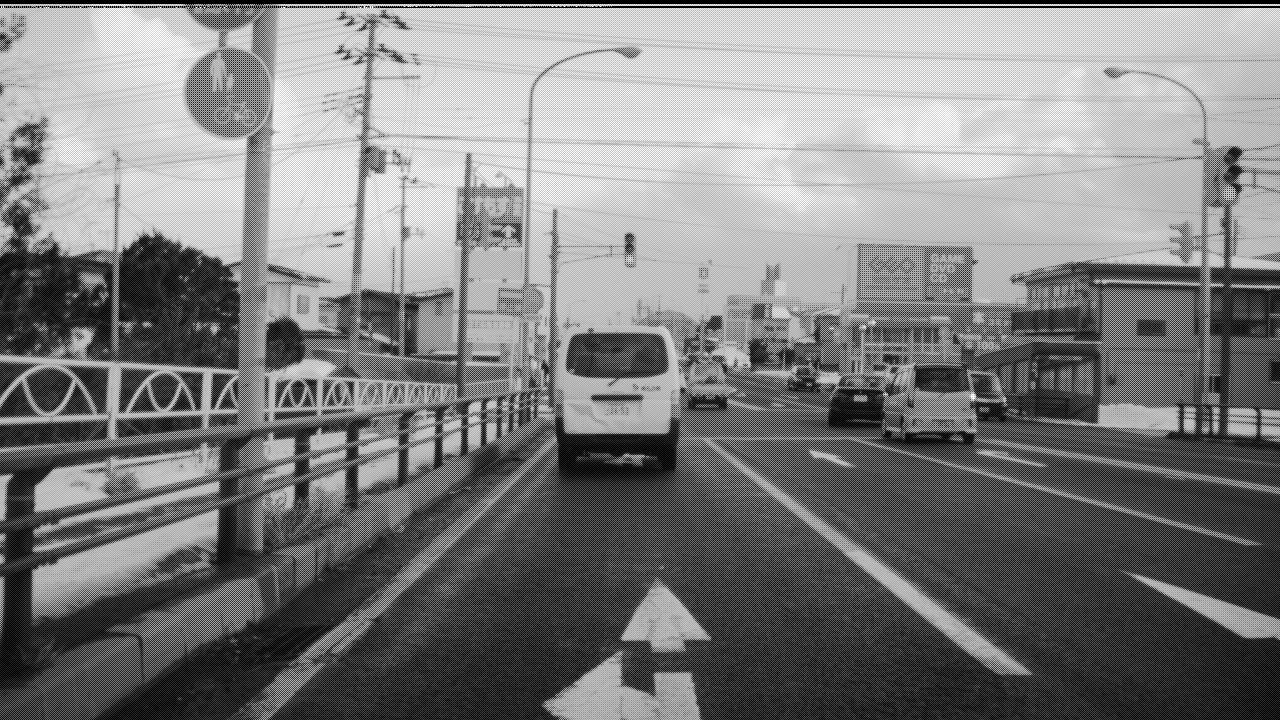pole: (235, 1, 280, 545), (345, 7, 378, 359), (1196, 96, 1211, 425), (456, 143, 472, 390), (522, 86, 533, 379), (109, 180, 123, 353), (548, 198, 558, 399), (397, 176, 407, 355)
